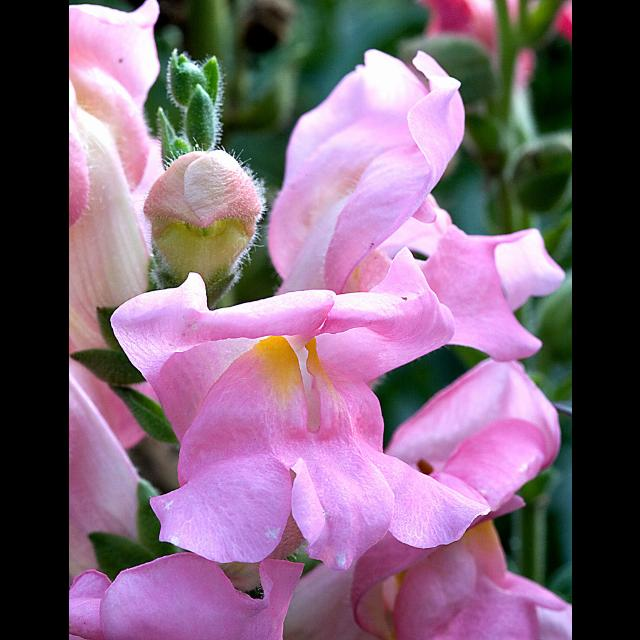Flower: (68, 1, 570, 640), (145, 294, 467, 586)
